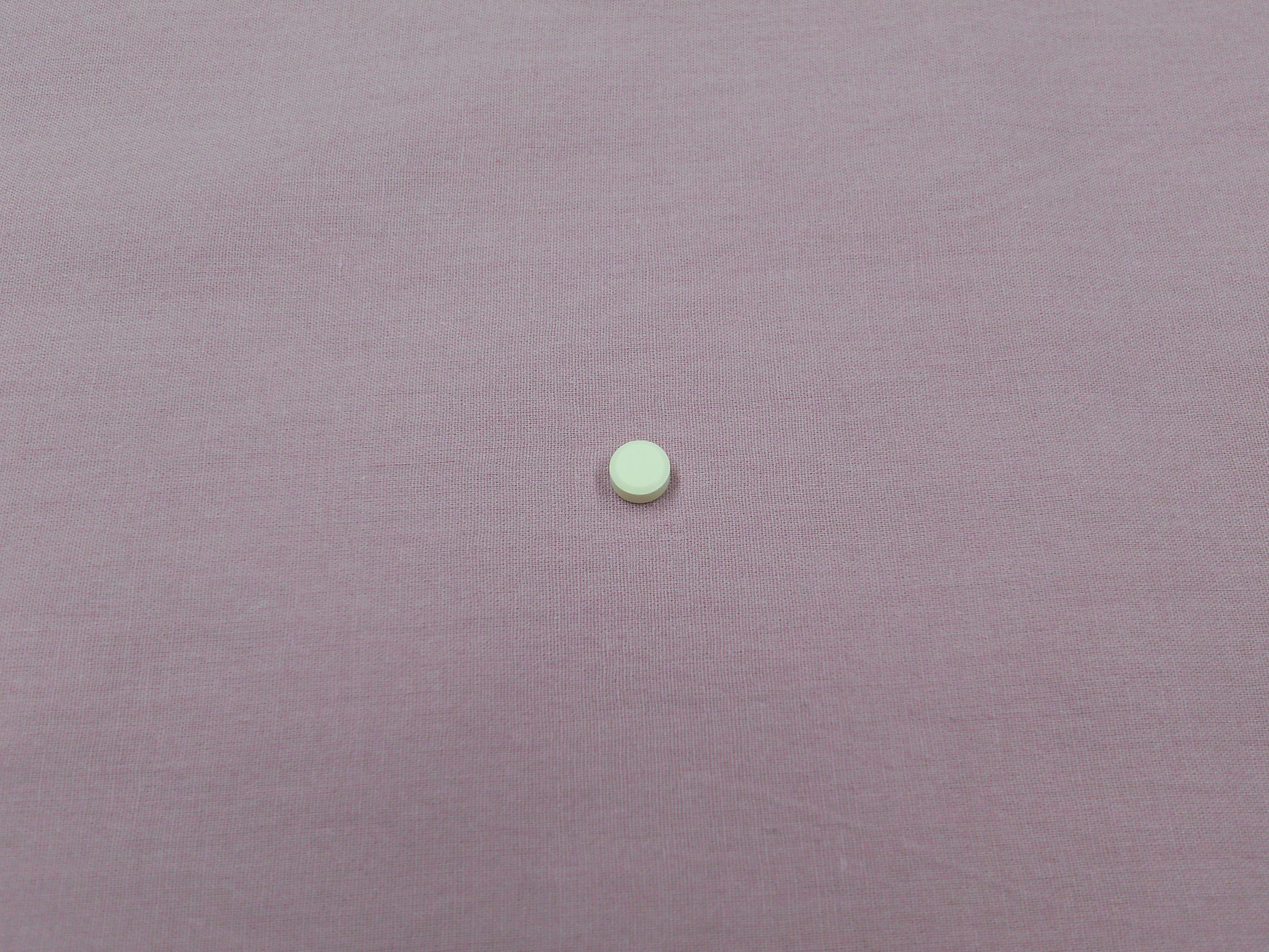Pill: (600, 432, 679, 508)
